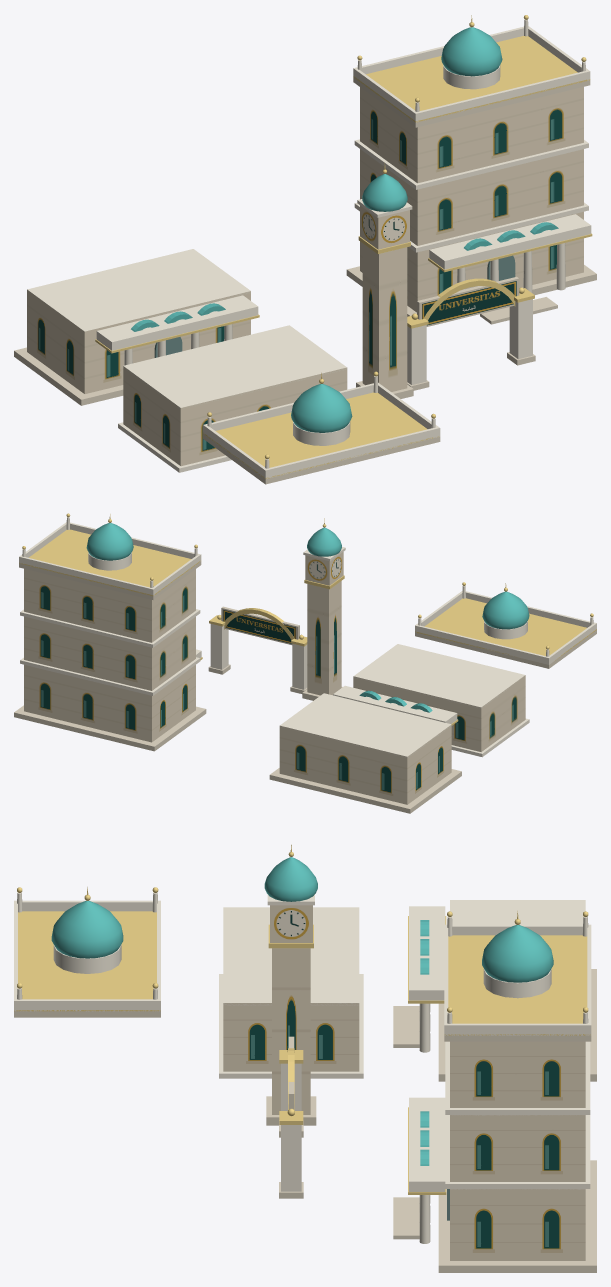
Rendered from kit-5-universitas.glb.
The picture shows the model from 3 angles, top to bottom: view 1: azimuth 30°, elevation 25°; view 2: azimuth 150°, elevation 25°; view 3: azimuth 270°, elevation 25°; orthographic projection. The views are drawn at different scales.
Visible parts, largest first — view 1: Univ_Contoh_3Lantai, Univ_LantaiDasar, Univ_LantaiAtas, Univ_Atap, Univ_MenaraJam, Univ_Gerbang; view 2: Univ_Contoh_3Lantai, Univ_LantaiDasar, Univ_LantaiAtas, Univ_Atap, Univ_MenaraJam, Univ_Gerbang; view 3: Univ_Contoh_3Lantai, Univ_LantaiAtas, Univ_Atap, Univ_LantaiDasar, Univ_MenaraJam, Univ_Gerbang.
Part boxes in pixels (box(x1,y1,x2,y2)): Univ_Contoh_3Lantai: box(346, 15, 596, 324); Univ_LantaiDasar: box(14, 249, 259, 405); Univ_LantaiAtas: box(118, 325, 347, 472); Univ_Atap: box(203, 371, 440, 484); Univ_MenaraJam: box(356, 163, 413, 398); Univ_Gerbang: box(407, 276, 535, 390); Univ_Contoh_3Lantai: box(14, 513, 206, 751); Univ_LantaiDasar: box(269, 685, 461, 813); Univ_LantaiAtas: box(353, 644, 529, 757); Univ_Atap: box(415, 582, 596, 668); Univ_MenaraJam: box(302, 518, 345, 700); Univ_Gerbang: box(208, 606, 307, 693); Univ_Contoh_3Lantai: box(393, 911, 596, 1272); Univ_LantaiAtas: box(219, 907, 363, 1078); Univ_Atap: box(14, 887, 160, 1017); Univ_LantaiDasar: box(393, 900, 596, 1081); Univ_MenaraJam: box(264, 844, 317, 1125); Univ_Gerbang: box(279, 1036, 303, 1198).
Bounding box in the file's own units: 31 × 15.12 × 25.75.
Materials: 8 (3 with a texture image).
